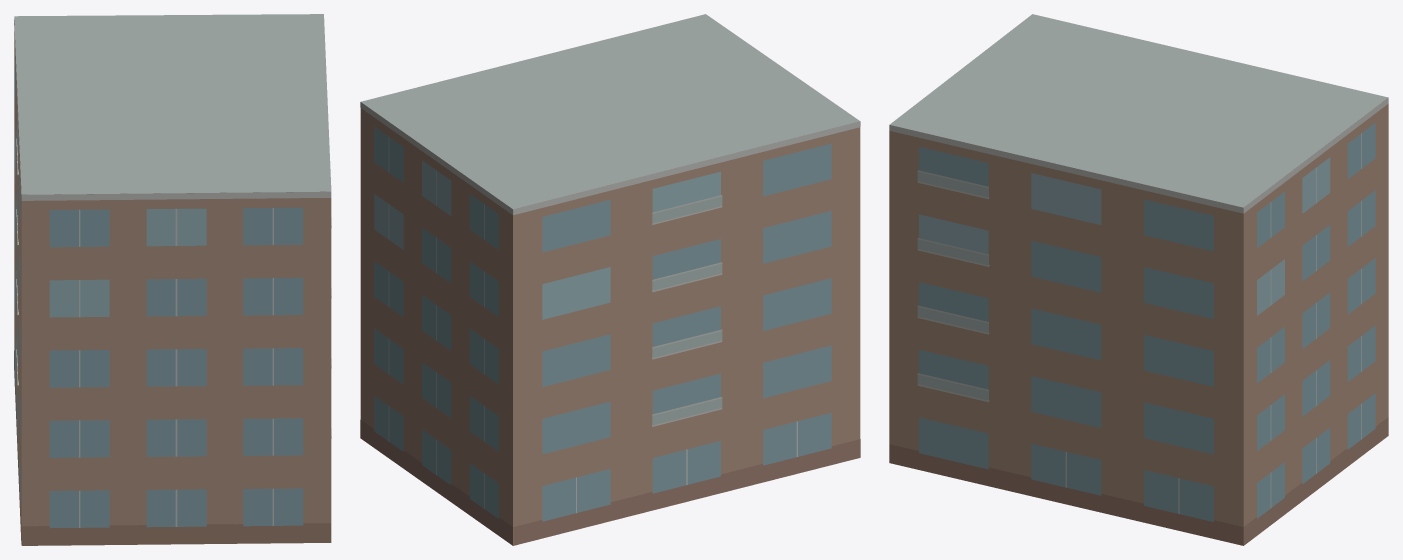
The model's file is survey-upis-32941058.glb.
3 views of the same model, side by side, from view 1: azimuth 30°, elevation 25°; view 2: azimuth 150°, elevation 25°; view 3: azimuth 270°, elevation 25° (orthographic). The views are drawn at different scales.
Visible parts, largest first — view 1: survey-upis-32941058.tmp; view 2: survey-upis-32941058.tmp; view 3: survey-upis-32941058.tmp.
Part boxes in pixels (left/top/right/bottom): survey-upis-32941058.tmp: left=14, top=14, right=331, bottom=545; survey-upis-32941058.tmp: left=360, top=14, right=860, bottom=545; survey-upis-32941058.tmp: left=889, top=14, right=1388, bottom=545.
Size of the model in its own units: 17.08 by 13.9 by 18.61.
